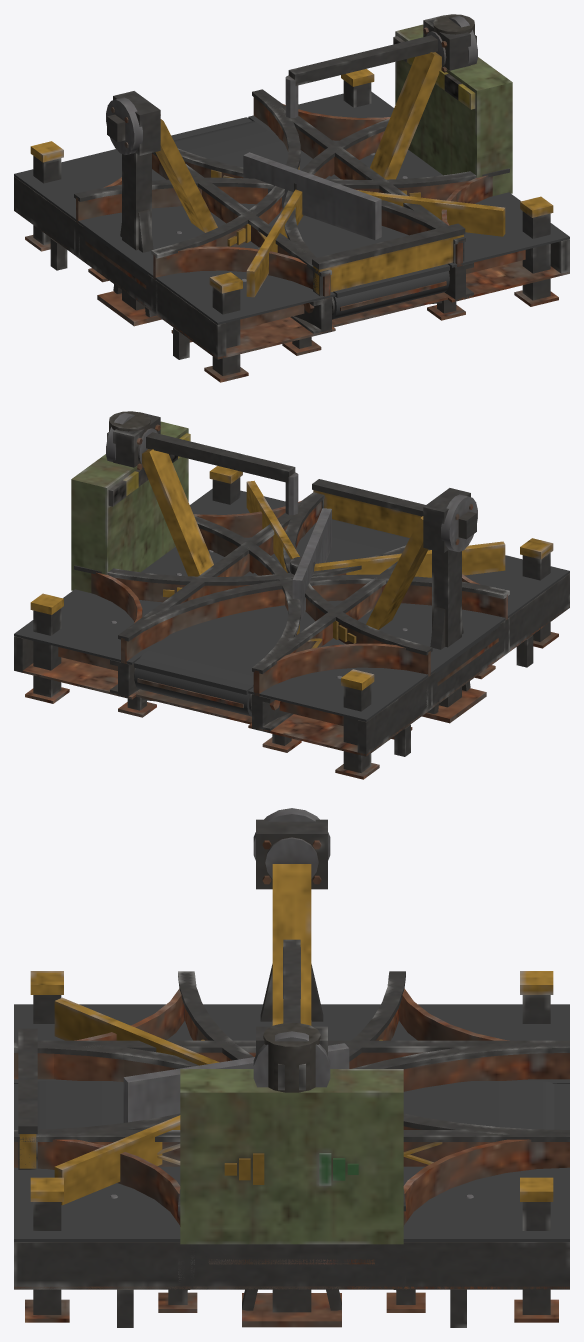
The model's file is feBeltSplitter_HD.fbx.
3 renders of one model, top to bottom at view 1: azimuth 30°, elevation 25°; view 2: azimuth 150°, elevation 25°; view 3: azimuth 270°, elevation 25°, orthographic. The views are drawn at different scales.
Parts seen in each view (by area): view 1: FeBeltExtra_Splitter, FeBeltFill_R, FeBeltBed, FeBeltFill_L, FeBeltDrive_R, FeJunctionPosts, FeMerge_R, FeBeltEnd, FeBeltDrive_L, FeMergeRail_R, FeJunctionWedge, FeCurveRail_R (+9 smaller); view 2: FeBeltFill_R, FeBeltExtra_Splitter, FeBeltBed, FeBeltFill_L, FeBeltDrive_R, FeCurveRail_R, FeJunctionPosts, FeCurveSet_R, FeBeltDrive_L, FeJunctionWedge, FeCurveSet_L, FeBeltEnd (+9 smaller); view 3: FeBeltExtra_Splitter, FeBeltFill_L, FeBeltBed, FeBeltFill_R, FeBeltDrive_R, FeJunctionPosts, FeCurveSet_L, FeJunctionWedge, FeRail_R, FeCurveRail_L, FeMerge_L, FeRail_L (+9 smaller).
Boxes of the visible parts, x1,y1,x2,y2 form: FeBeltExtra_Splitter: [243, 14, 512, 240]; FeBeltFill_R: [14, 149, 335, 359]; FeBeltBed: [174, 121, 473, 335]; FeBeltFill_L: [248, 91, 569, 302]; FeBeltDrive_R: [97, 91, 217, 326]; FeJunctionPosts: [25, 69, 558, 382]; FeMerge_R: [85, 216, 465, 355]; FeBeltEnd: [312, 223, 465, 296]; FeBeltDrive_L: [370, 15, 470, 179]; FeMergeRail_R: [74, 177, 465, 266]; FeJunctionWedge: [246, 183, 505, 297]; FeCurveRail_R: [151, 89, 300, 281]; FeBeltFill_R: [248, 555, 569, 756]; FeBeltExtra_Splitter: [71, 411, 331, 618]; FeBeltBed: [110, 519, 409, 732]; FeBeltFill_L: [14, 488, 315, 699]; FeBeltDrive_R: [366, 488, 486, 723]; FeCurveRail_R: [118, 574, 509, 663]; FeJunctionPosts: [25, 466, 558, 779]; FeCurveSet_R: [128, 609, 508, 752]; FeBeltDrive_L: [113, 412, 213, 576]; FeJunctionWedge: [246, 480, 505, 577]; FeCurveSet_L: [91, 561, 262, 730]; FeBeltEnd: [312, 479, 425, 537]; FeBeltExtra_Splitter: [123, 939, 403, 1244]; FeBeltFill_L: [14, 1166, 569, 1327]; FeBeltBed: [37, 1081, 554, 1129]; FeBeltFill_R: [14, 1004, 569, 1083]; FeBeltDrive_R: [256, 819, 327, 1025]; FeJunctionPosts: [25, 971, 558, 1322]; FeCurveSet_L: [178, 1084, 569, 1312]; FeJunctionWedge: [54, 997, 219, 1205]; FeRail_R: [14, 1040, 569, 1079]; FeCurveRail_L: [178, 1040, 569, 1211]; FeMerge_L: [14, 1084, 405, 1312]; FeRail_L: [14, 1130, 569, 1166].
Bounding box in the file's own units: 1.03 × 0.57 × 1.
2 materials, 1 textured.
